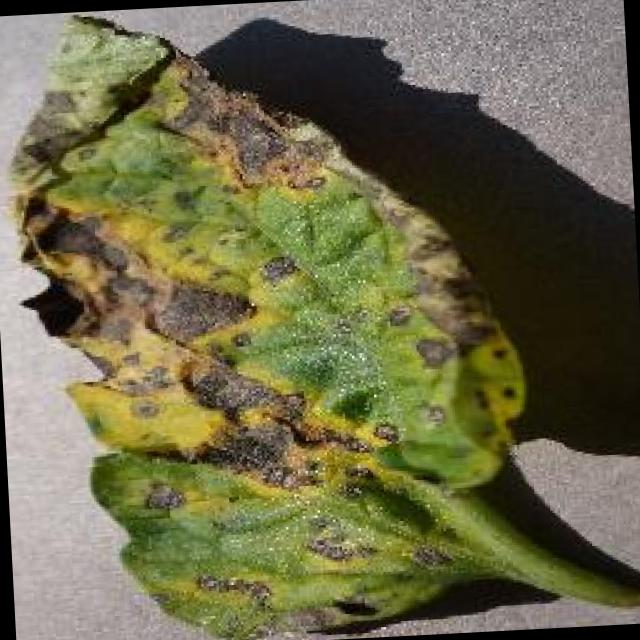Tomato_Early_Blight: (1, 6, 518, 618)
